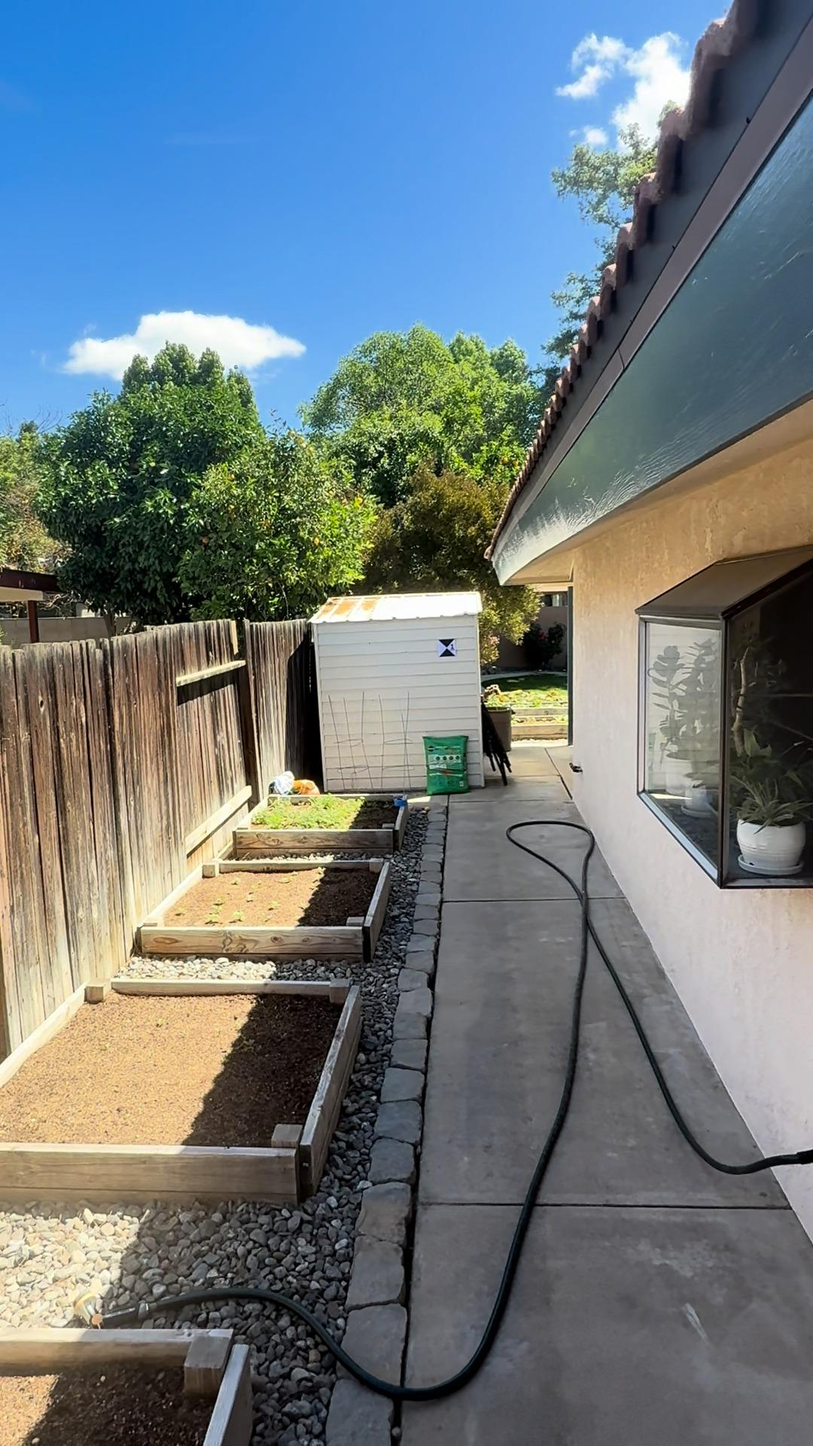target1: (437, 637, 458, 659)
